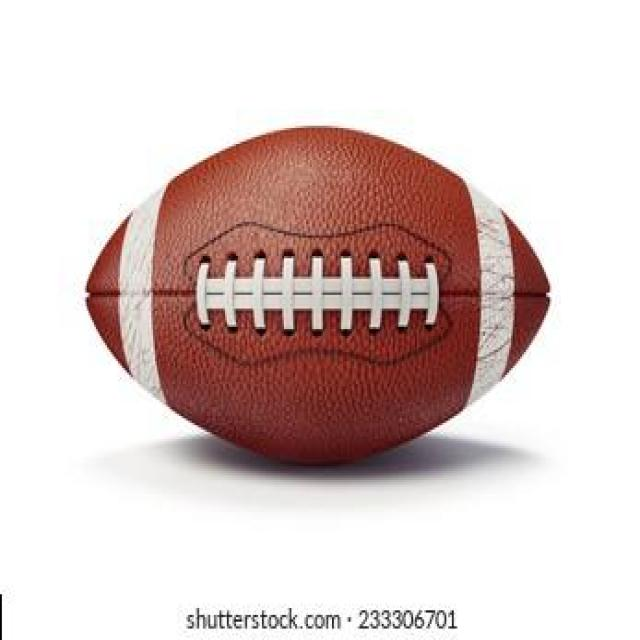ball: (79, 120, 558, 468)
